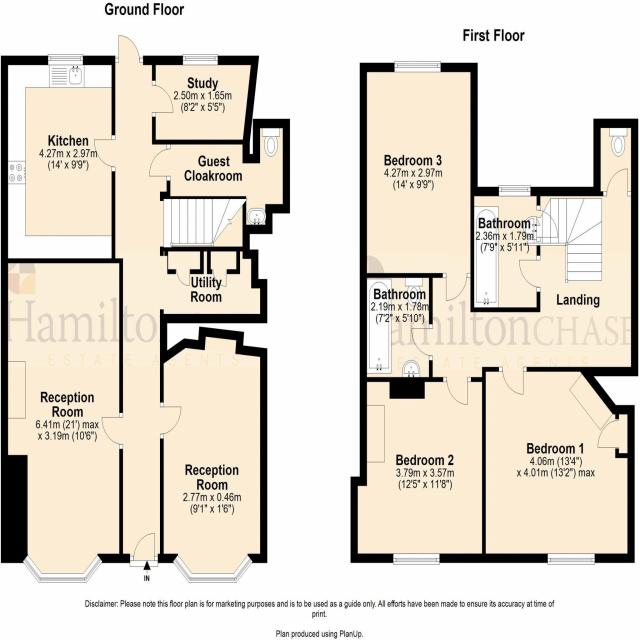DOOR: (130, 533, 159, 567), (498, 366, 527, 395), (115, 34, 144, 63), (411, 323, 433, 361), (518, 255, 540, 293), (101, 412, 123, 450), (149, 144, 171, 182), (152, 80, 174, 118), (160, 402, 182, 439), (443, 377, 472, 405), (442, 273, 471, 301), (603, 168, 632, 196), (94, 135, 115, 172)
ROOM: (1, 258, 123, 584), (481, 367, 636, 565), (359, 61, 478, 301), (160, 326, 268, 584), (350, 377, 486, 565), (1, 54, 116, 263), (152, 54, 259, 145)
WINDOW: (172, 554, 254, 584), (22, 554, 103, 583), (547, 553, 596, 565), (393, 553, 440, 565), (394, 61, 441, 73), (182, 54, 218, 66), (48, 54, 83, 66), (498, 185, 531, 197)
